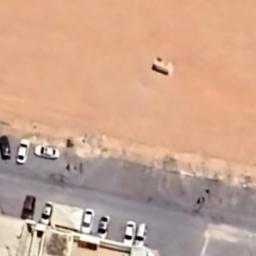sedan: (34, 145, 61, 159), (16, 138, 30, 164), (81, 208, 95, 234), (123, 220, 136, 246), (40, 202, 53, 224), (96, 216, 109, 238), (0, 135, 11, 158)
van: (21, 196, 36, 220), (134, 223, 148, 247)
